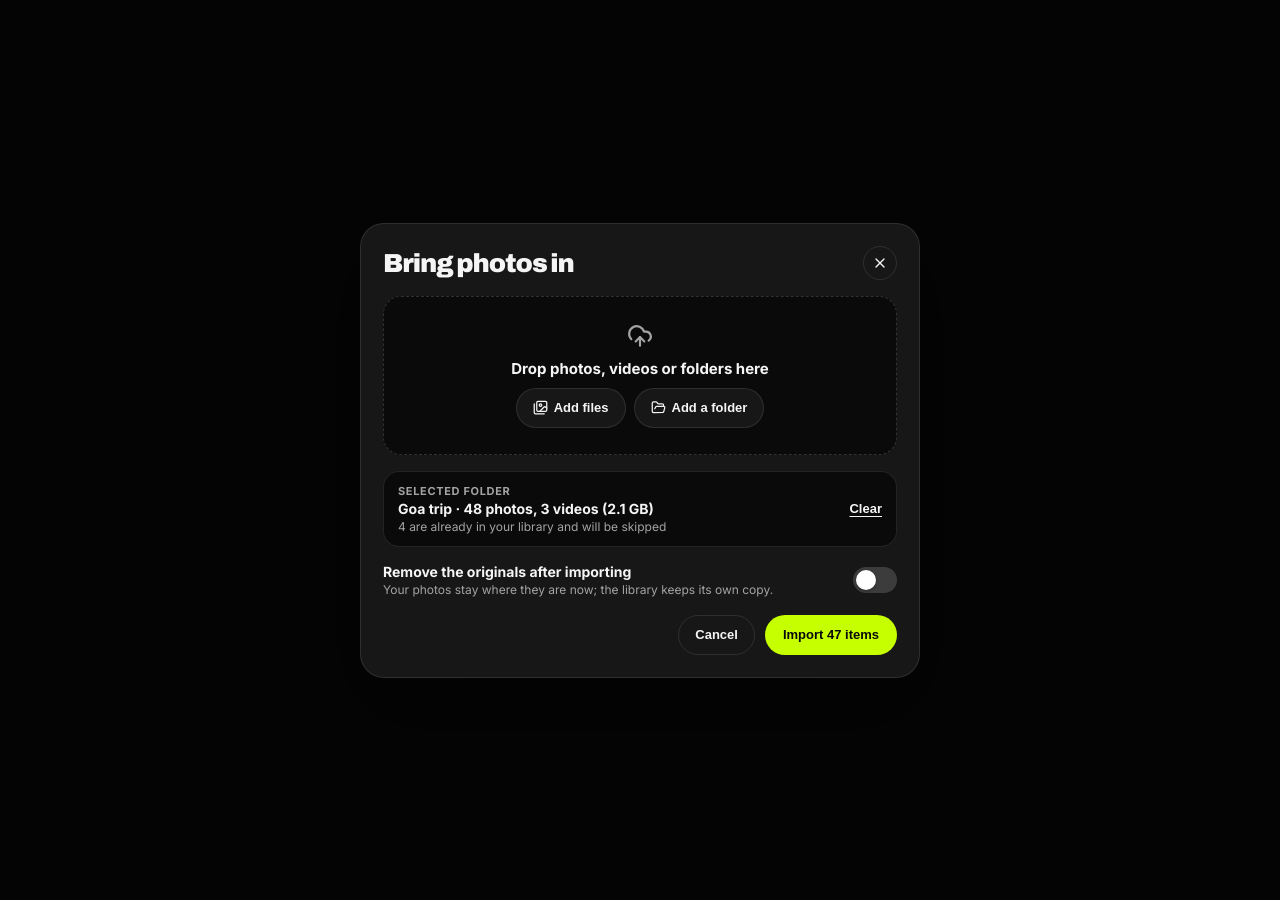
Test: ImportModal › moves only when asked, shows progress, can stop, and still reports the result after Hide
Earlier steps of the test are not shown.
Later steps or results of the test are not shown.
Expected: the text "Goa trip · 48 photos, 3 videos (2.1 GB)" is shown, x1=398 y1=500 x2=654 y2=516
Click the switch named "Remove the originals after importing".
click(875, 580)  # box x1=853 y1=566 x2=897 y2=592
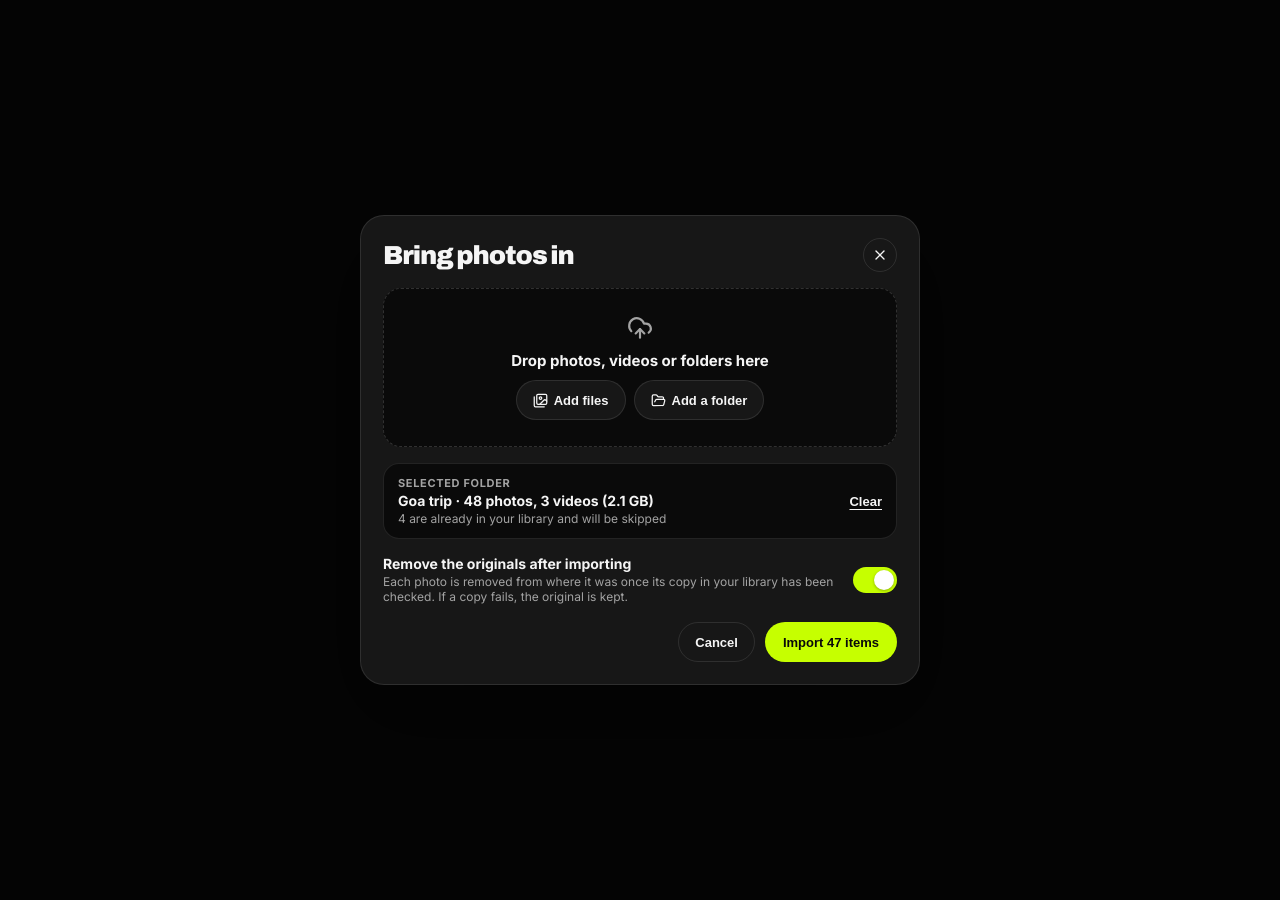
Expected: the text "once its copy in your library has been checked" is shown, x1=383 y1=574 x2=833 y2=604
Click the button "Import 47 items".
click(831, 642)  # box x1=765 y1=622 x2=897 y2=662
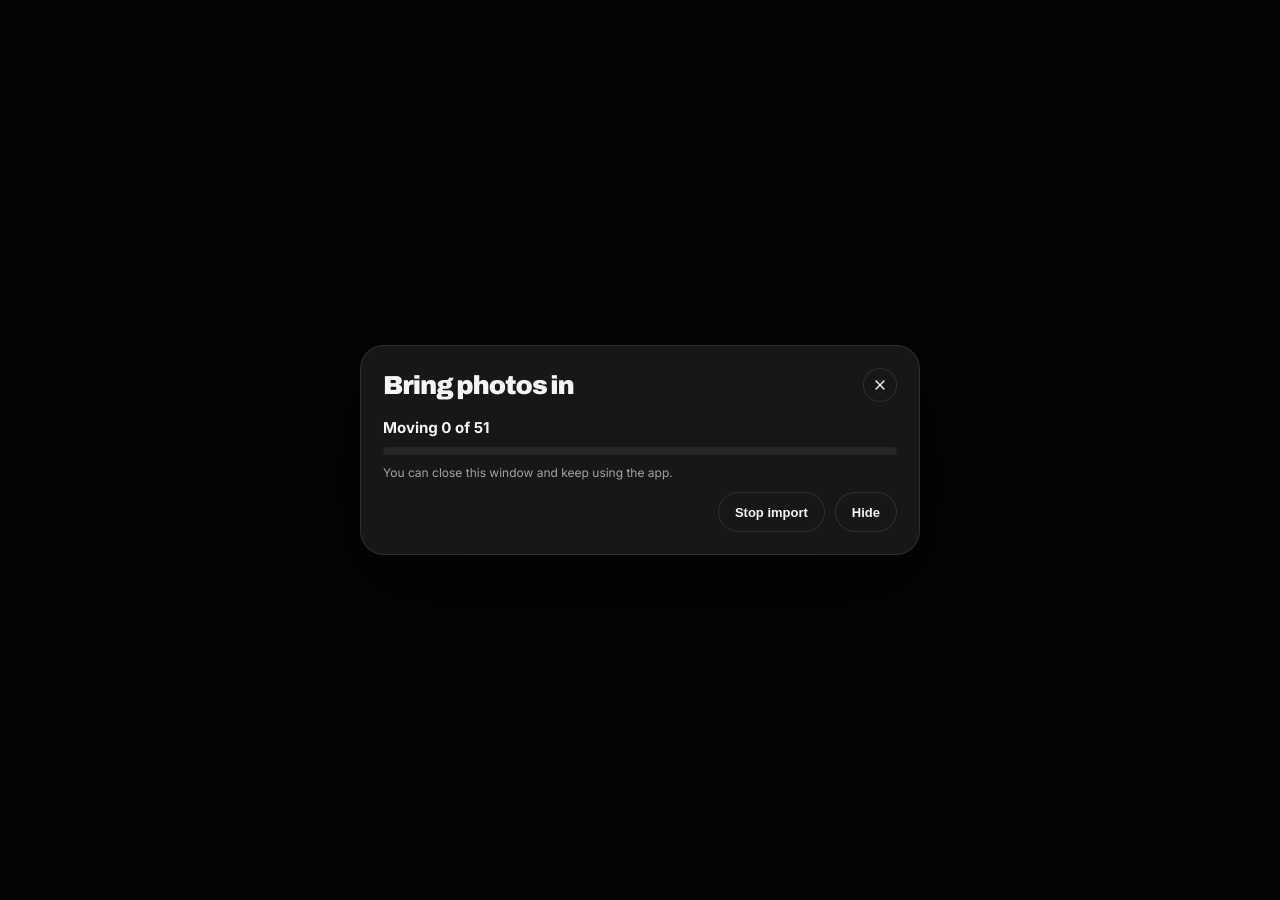
Expected: the text "Moving 0 of 51" is shown, x1=383 y1=418 x2=490 y2=437
Expected: the text "You can close this window and keep using the app." is shown, x1=383 y1=465 x2=673 y2=480
Expected: the button "Stop import" is shown
Click the button "Stop import".
click(771, 512)  # box x1=718 y1=492 x2=825 y2=532
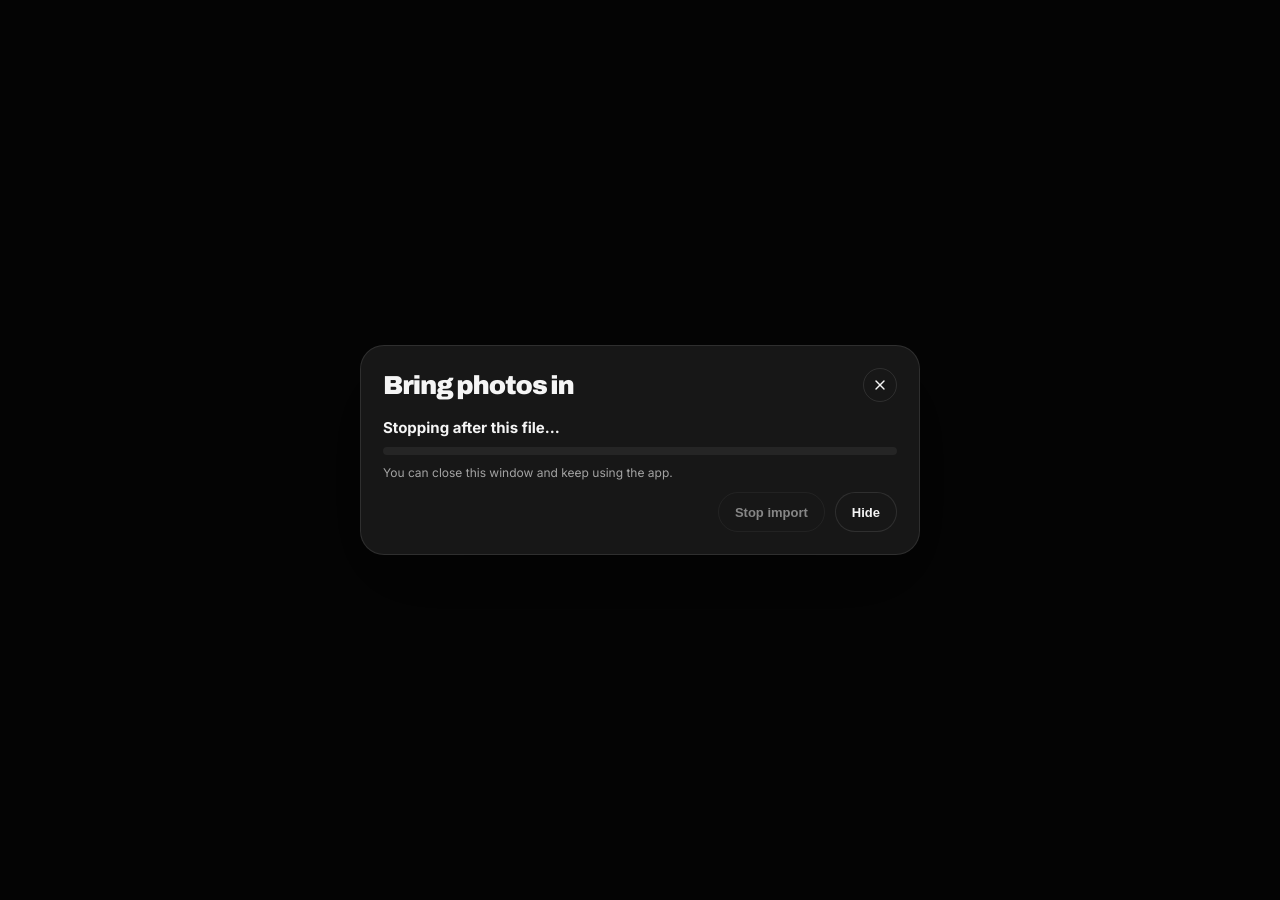
Expected: the text "Stopping after this file…" is shown, x1=383 y1=418 x2=560 y2=437
